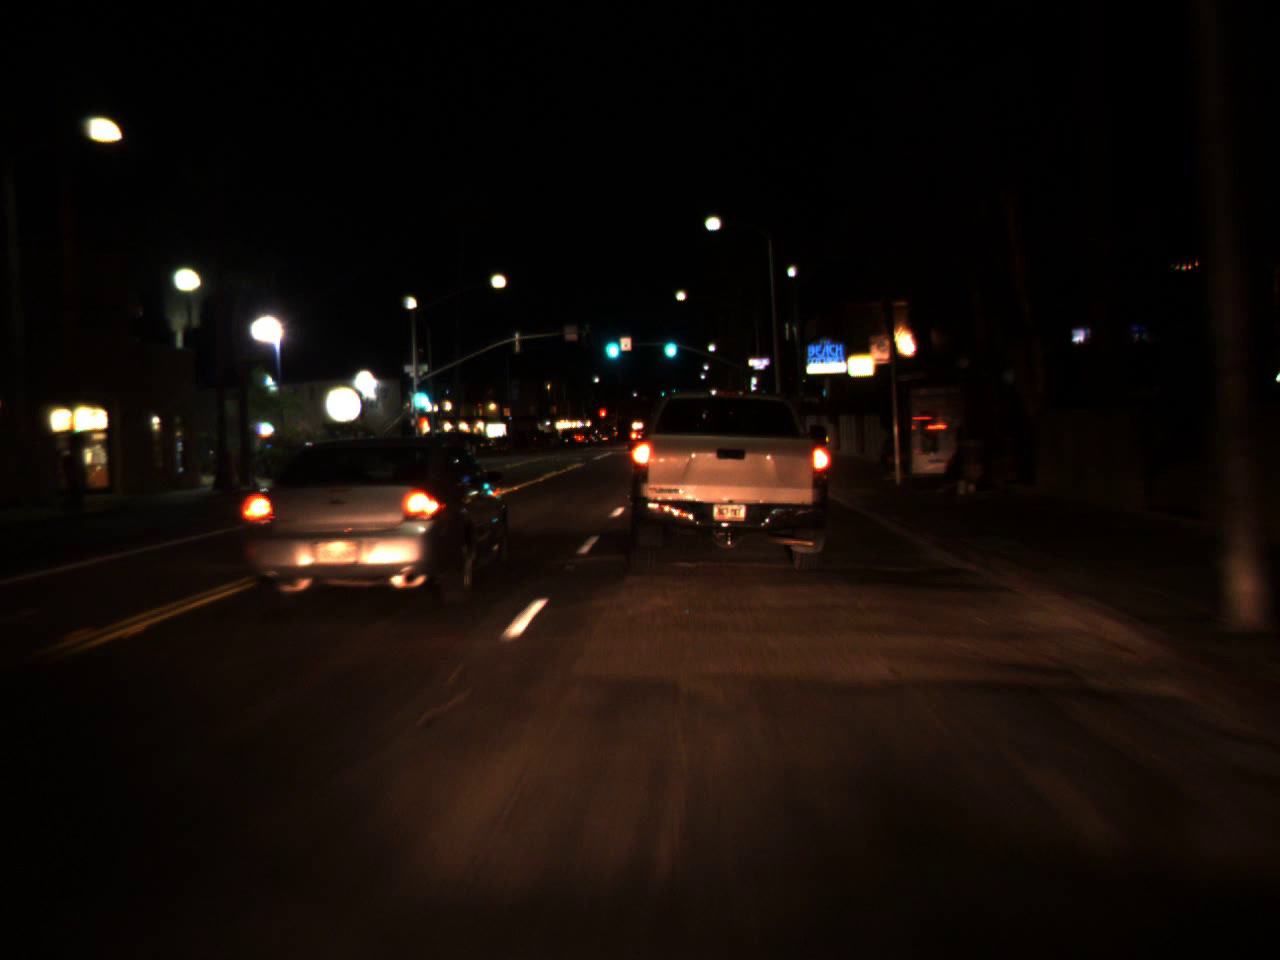go: (407, 367, 432, 418), (599, 324, 622, 363), (661, 324, 679, 363)
